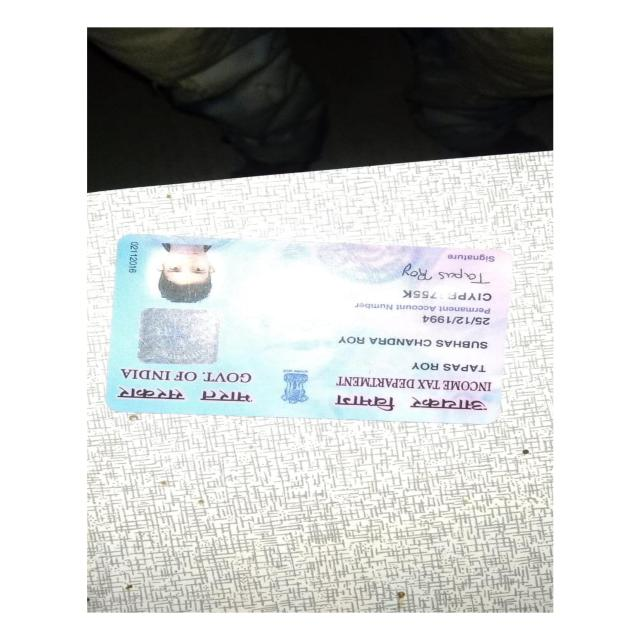pan_card: (107, 233, 507, 420)
